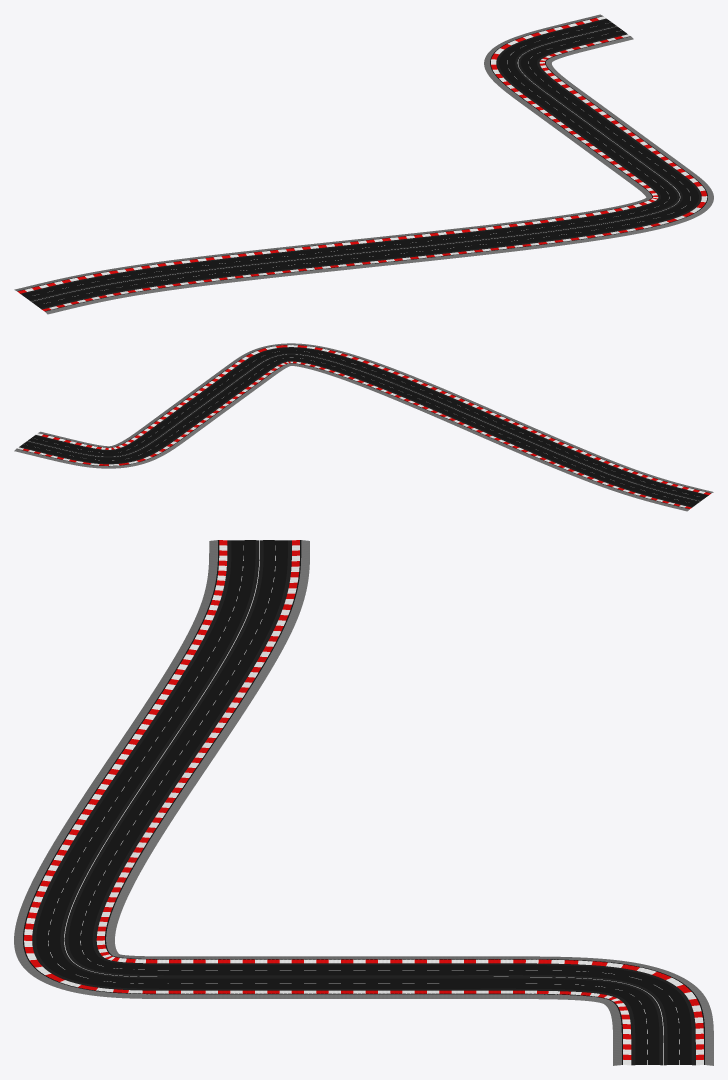
Rendered from S0.1c3-Zee.glb.
3 renders of one model, top to bottom at view 1: azimuth 30°, elevation 25°; view 2: azimuth 150°, elevation 25°; view 3: azimuth 270°, elevation 25°, orthographic. The views are drawn at different scales.
Parts seen in each view (by area): view 1: Grid; view 2: Grid; view 3: Grid.
Part boxes in pixels (box(x1,y1,x2,y2)): Grid: box(14, 14, 713, 314); Grid: box(14, 343, 713, 511); Grid: box(14, 540, 713, 1065).
Bounding box in the file's own units: 308 × 0.31 × 173.
